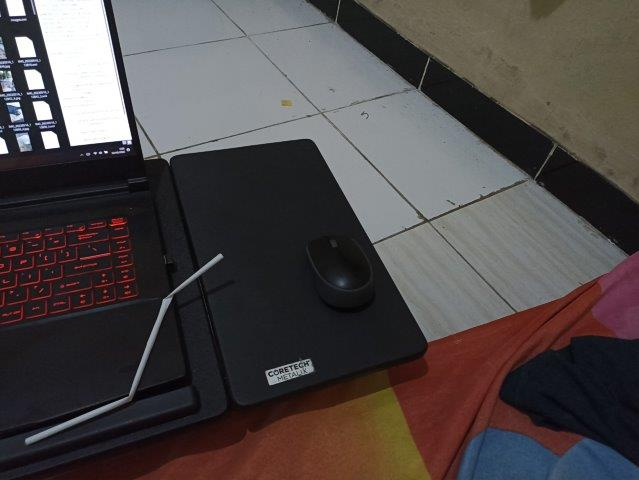sedotan: (25, 255, 222, 442)
